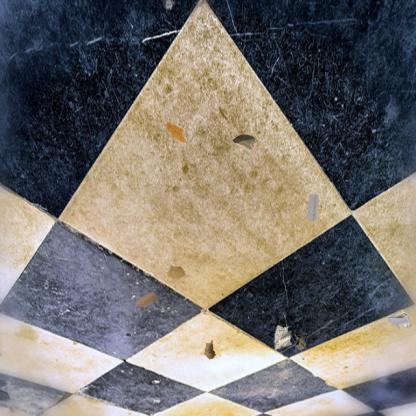dirty: (386, 308, 414, 333), (272, 323, 294, 352), (135, 290, 159, 309), (306, 192, 320, 222), (290, 331, 310, 352), (201, 338, 218, 361), (232, 134, 256, 150)
liquid: (166, 122, 187, 143), (164, 264, 186, 284)
